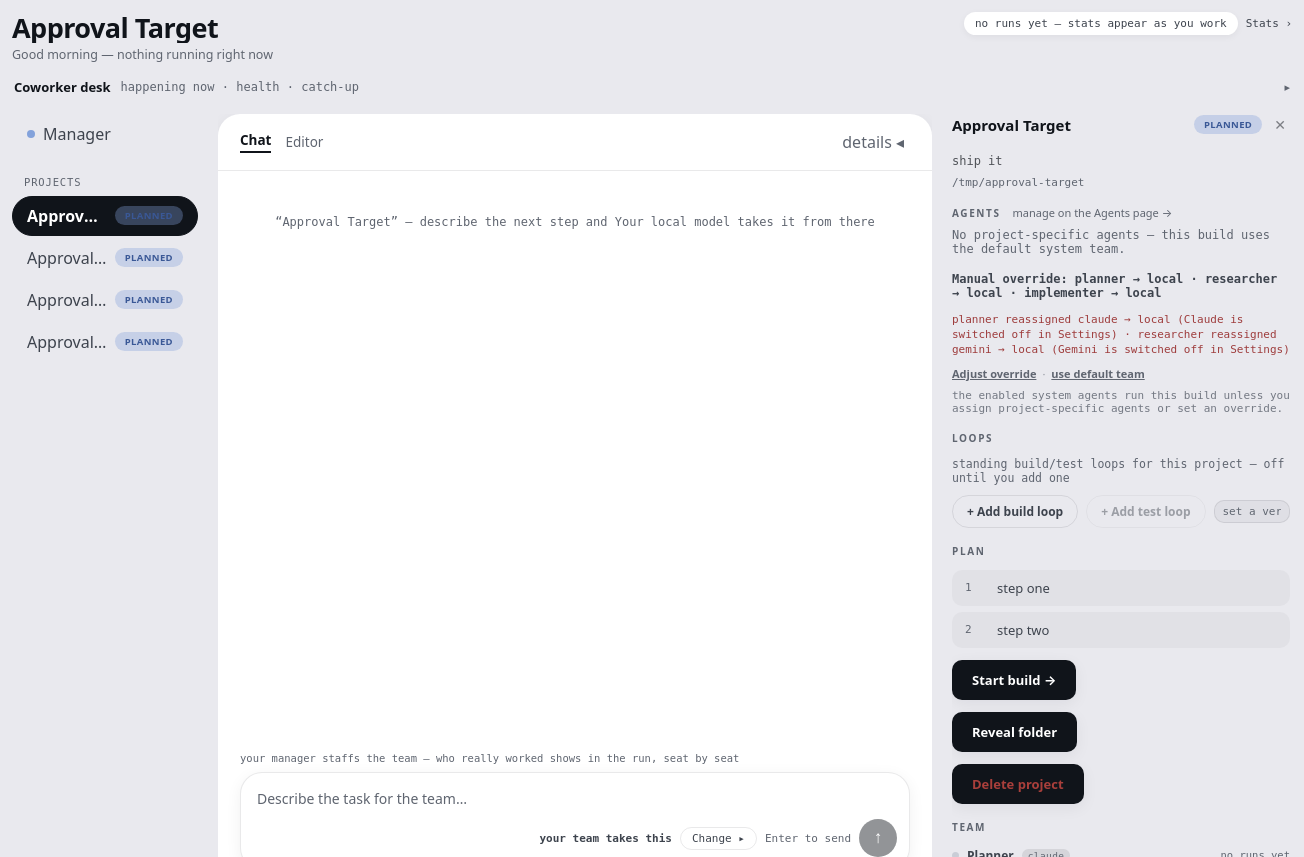
Scenario: ProjectContextPanel — Start build approval gate (MV5) › approve mode: Cancel dismisses the proposal without running, and Start build reappears
Click the button "Start build →" at {"x": 1014, "y": 680}, box [952,660,1076,700]
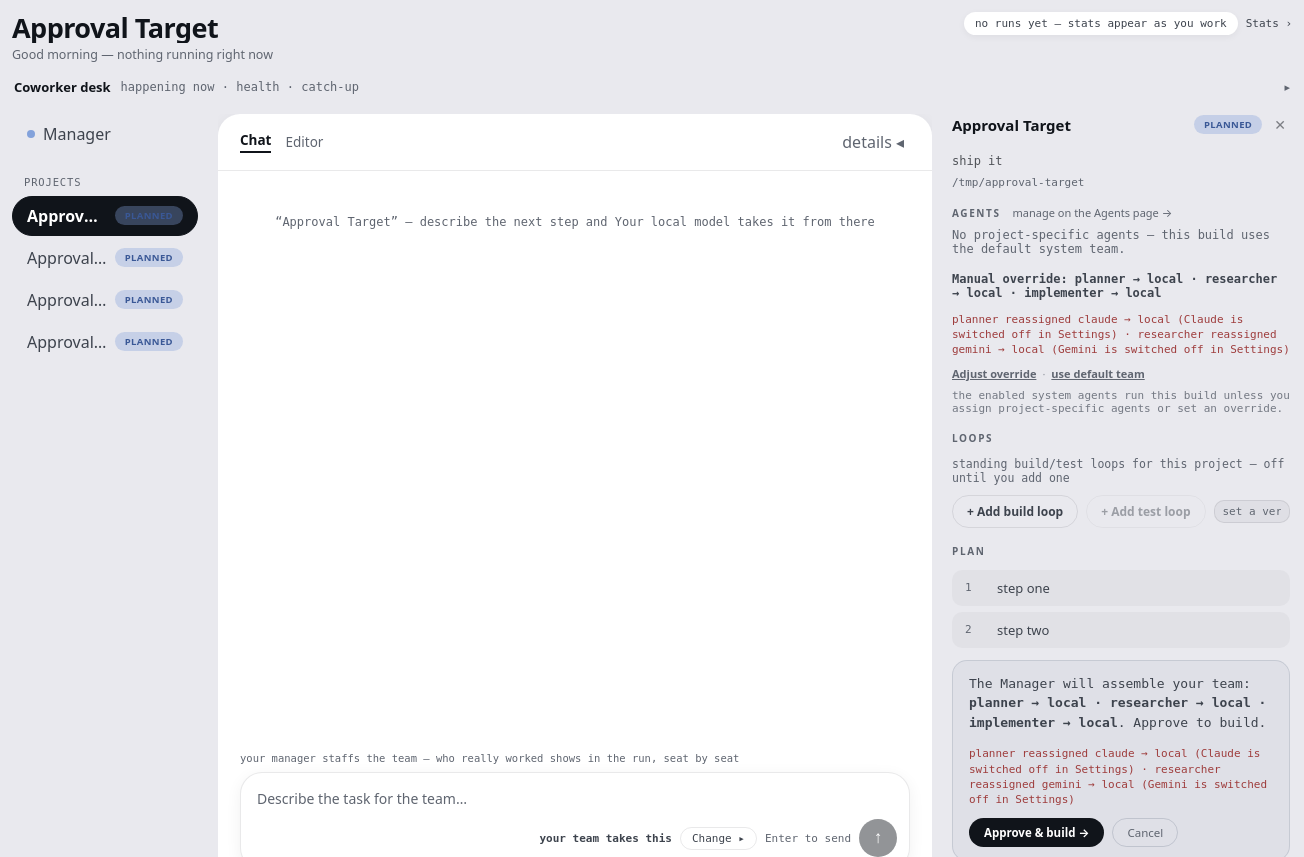
Now the button "Approve & build →" is shown, box [969,818,1104,847]
Click the button "Cancel" at {"x": 1145, "y": 832}, box [1112,818,1178,847]
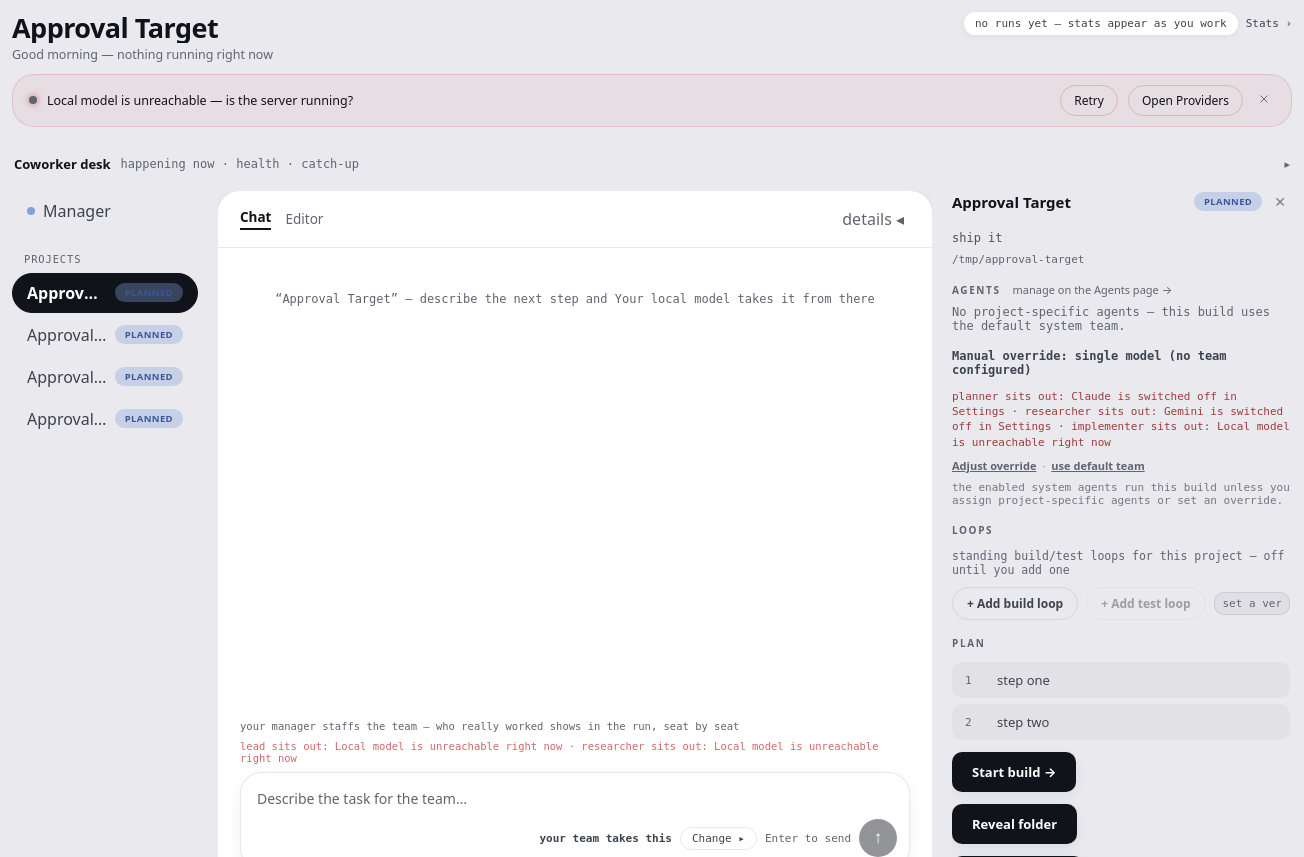
Now the button "Approve & build" is gone
Now the button "Start build →" is shown, box [952,752,1076,792]
